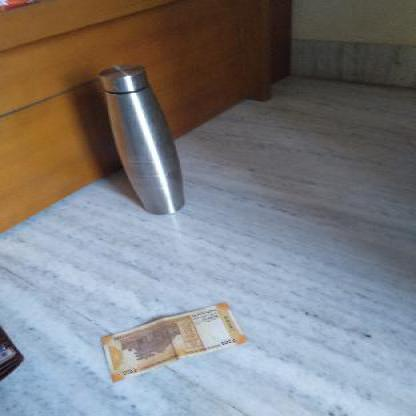New200Back: (93, 304, 251, 374)
